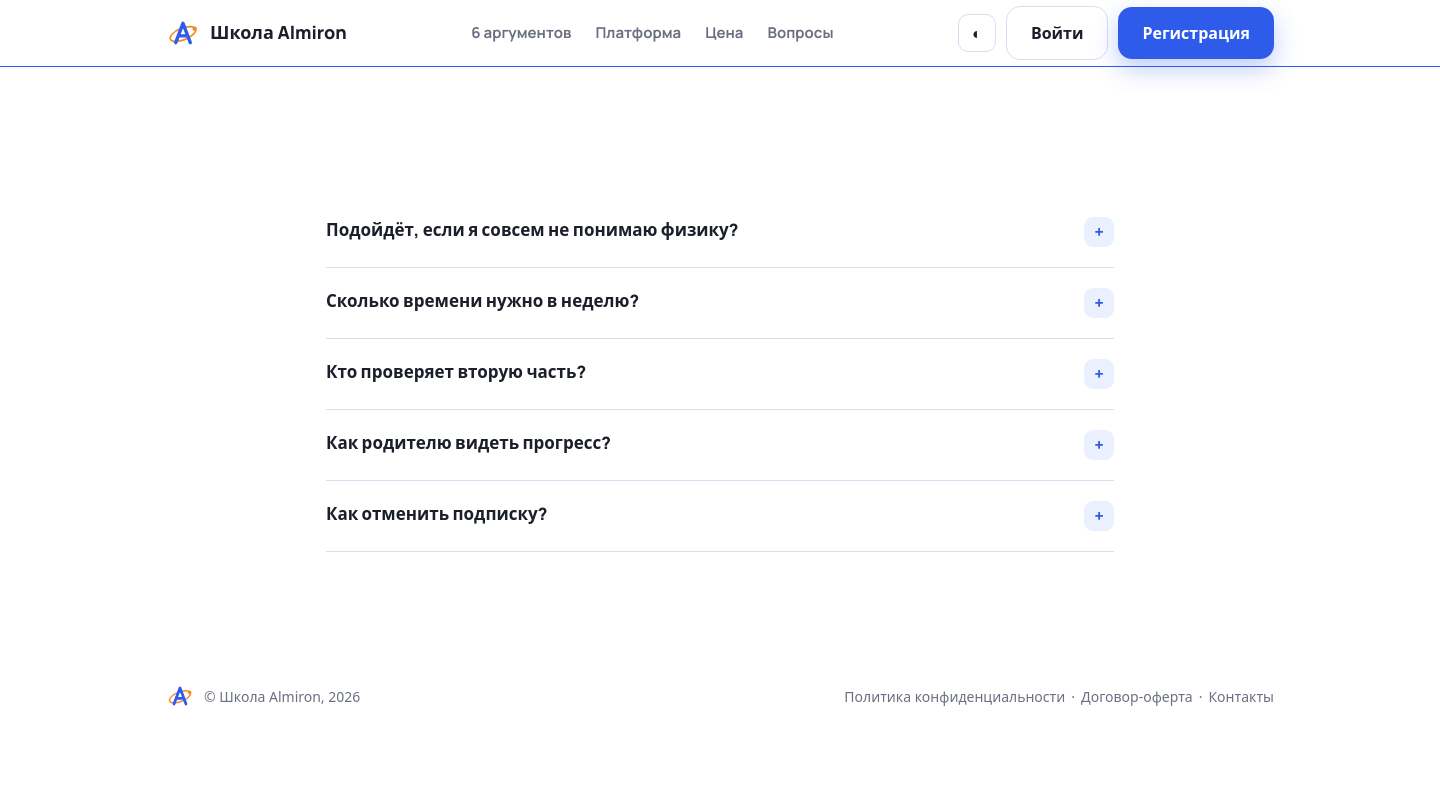
Scenario: лендинг: интерактив › FAQ раскрывает ответ
(page scrolled)
Click the button "Как отменить подписку? +" at (437, 514), box [326, 481, 1114, 551]
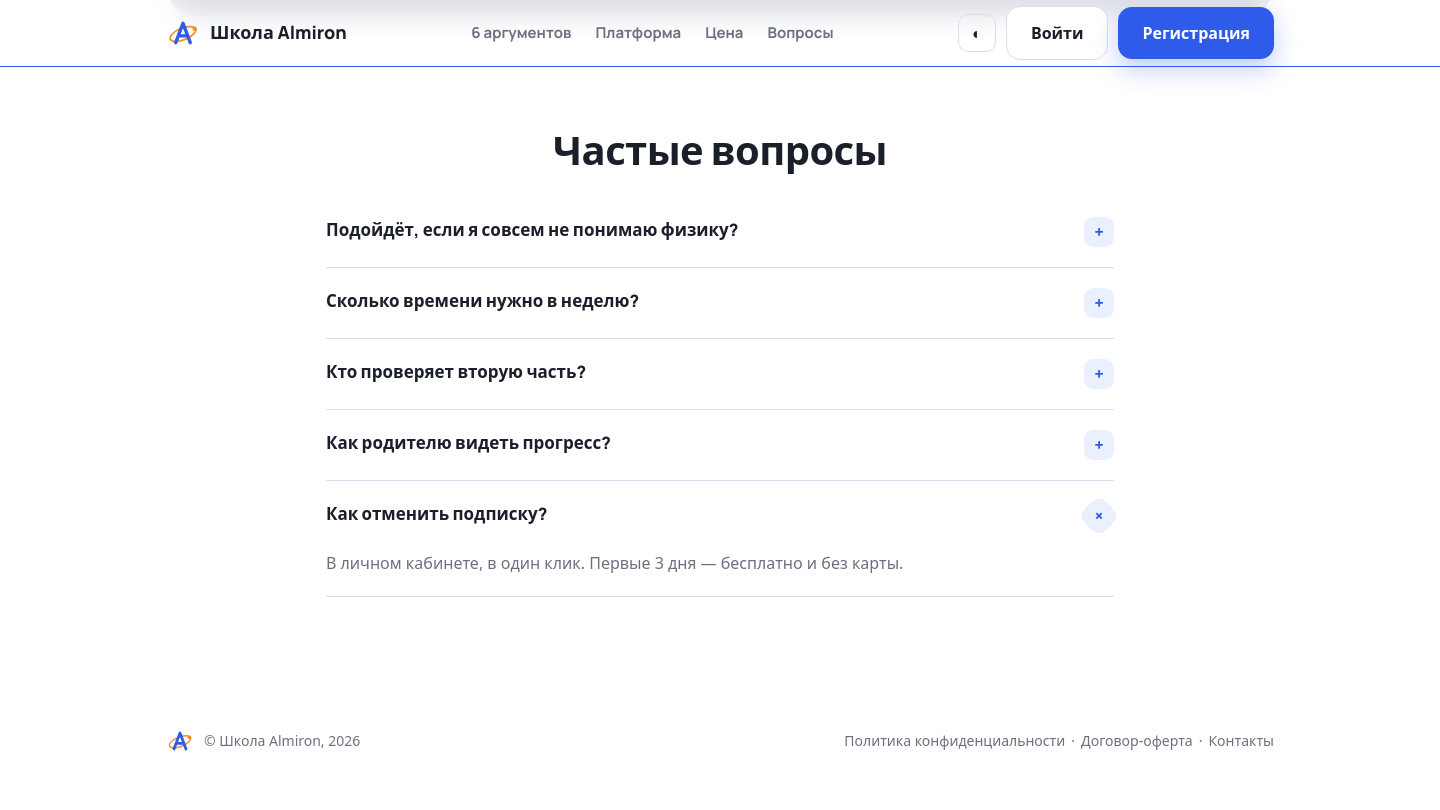
Expected: the button "Как отменить подписку? +" is expanded, [326, 481, 1114, 551]
Expected: the text "В личном кабинете, в один клик" is shown, [326, 552, 903, 574]
